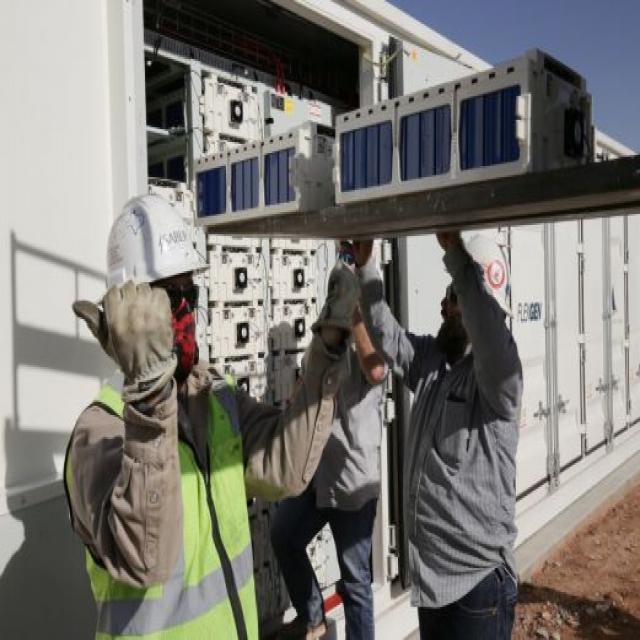Reflective-Jacket: (61, 367, 263, 640)
Safety-Helmet: (80, 185, 209, 306)
